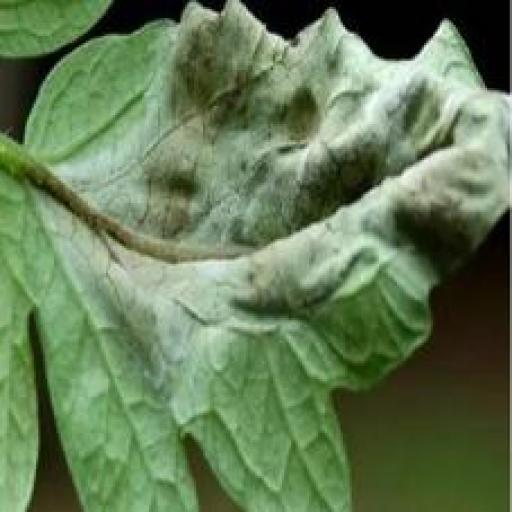Late Blight: (1, 1, 512, 512)
